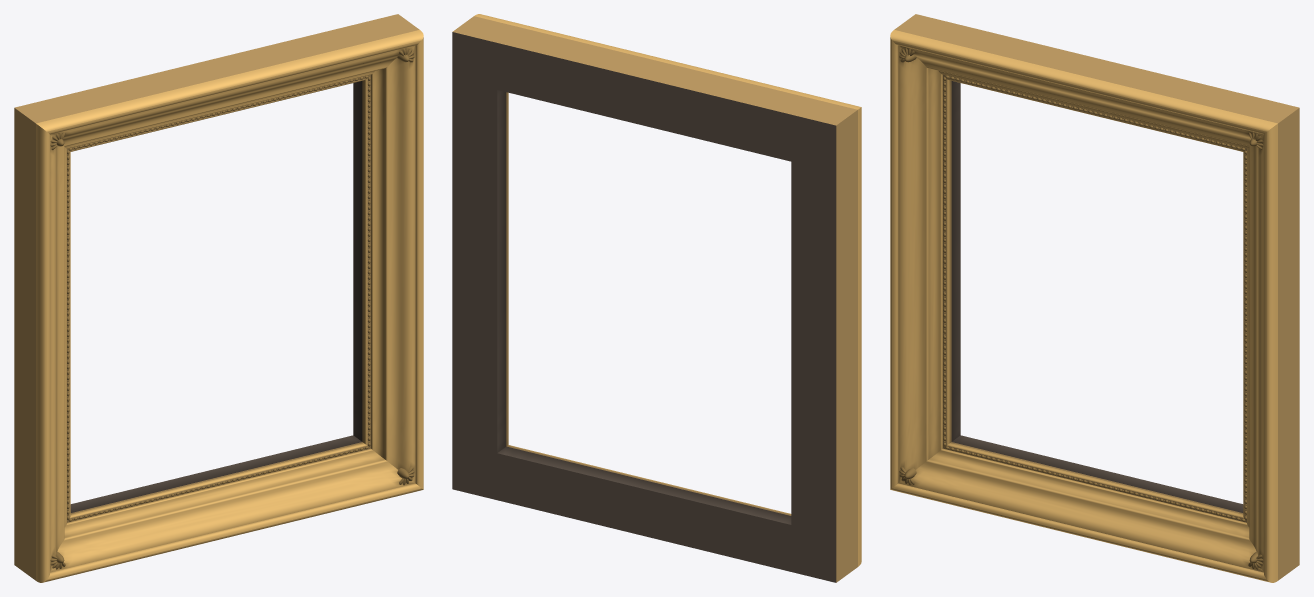
File: 05-italyanskiy-polden.glb
3 views of the same model, side by side, from view 1: azimuth 30°, elevation 25°; view 2: azimuth 150°, elevation 25°; view 3: azimuth 330°, elevation 25° (orthographic).
Parts seen in each view (by area): view 1: Frame; view 2: Frame; view 3: Frame.
Part boxes in pixels (x1,y1,x2,y2): Frame: (14,14,423,582); Frame: (452,14,861,582); Frame: (890,14,1299,582).
Size of the model in its own units: 1.09 by 1.24 by 0.1441.
